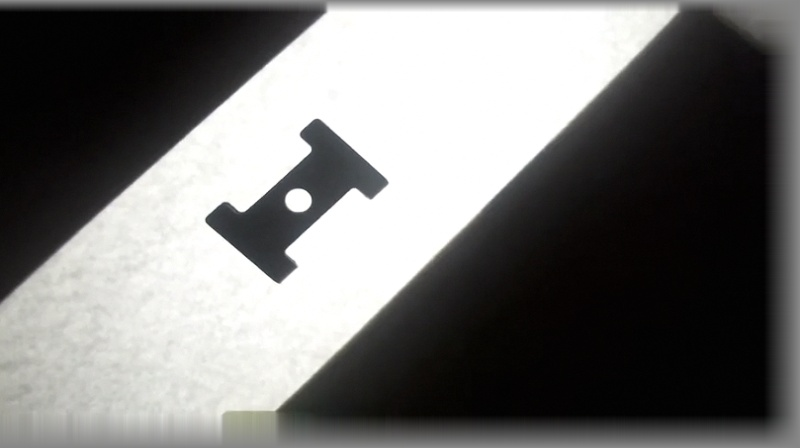O002: (200, 115, 390, 286)
